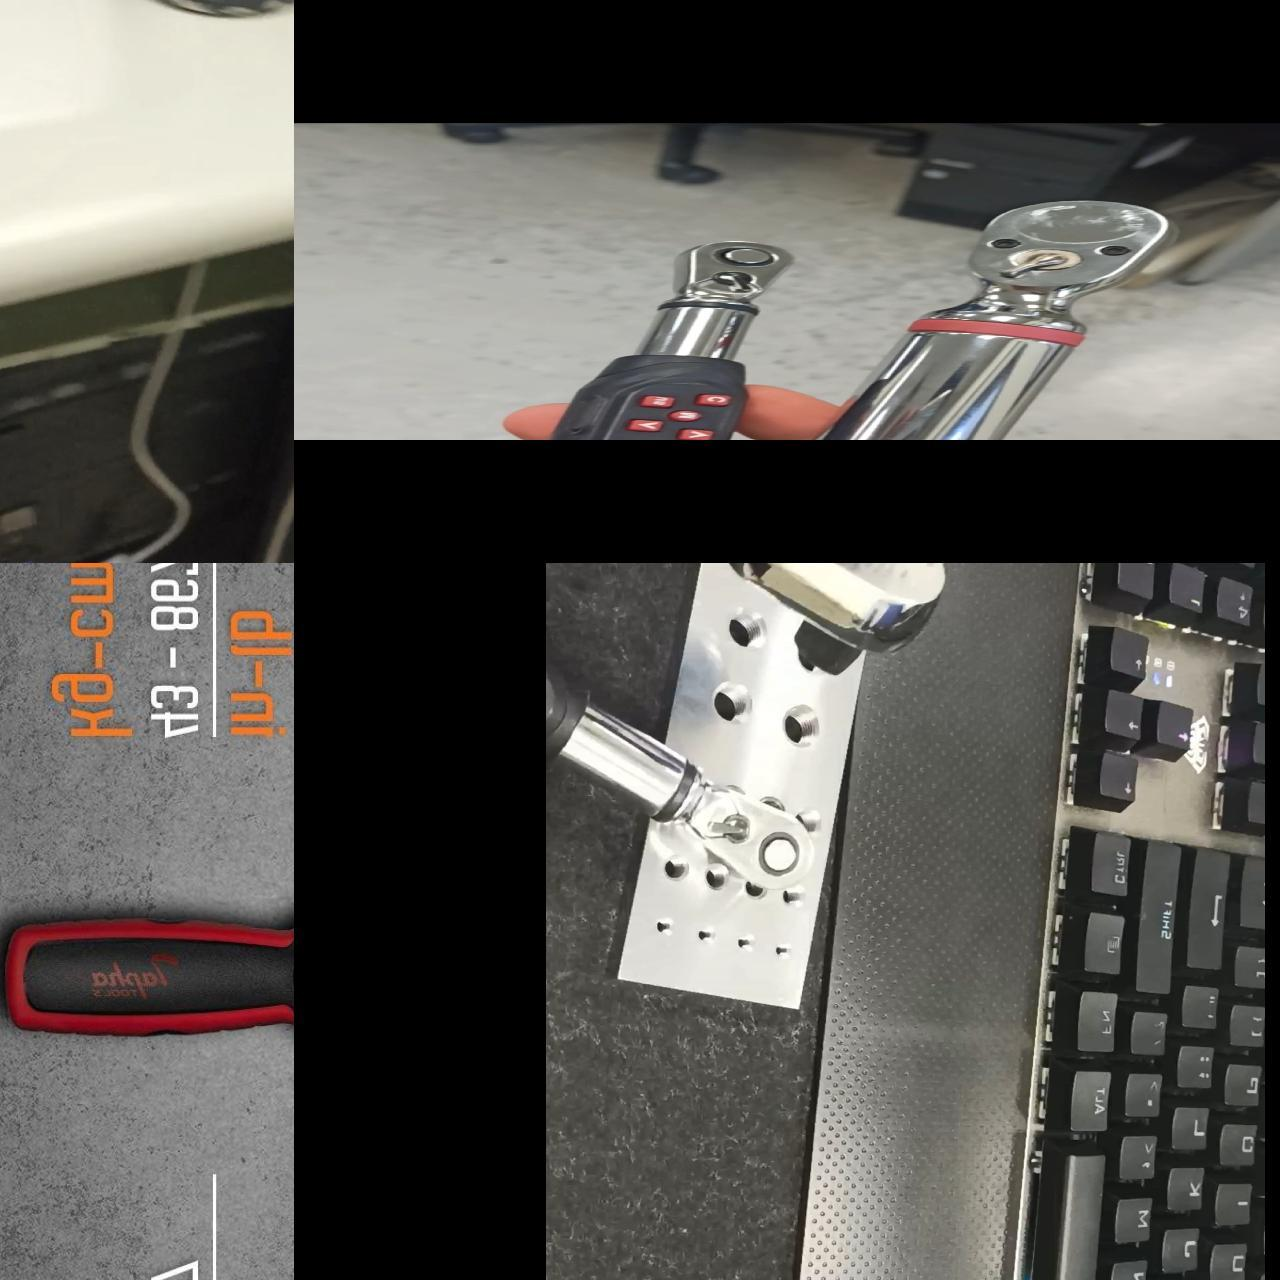Tool: (932, 197, 1169, 334), (622, 563, 940, 653), (685, 772, 806, 892), (676, 241, 808, 306)
